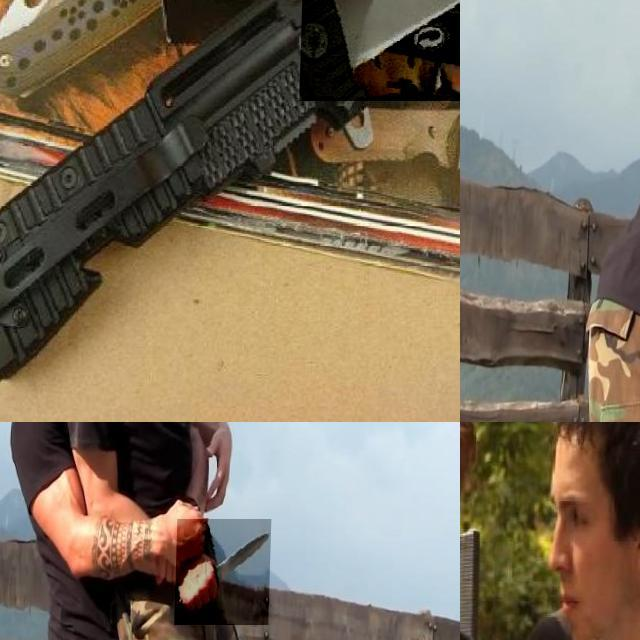-: (301, 0, 460, 131), (177, 519, 273, 625)
